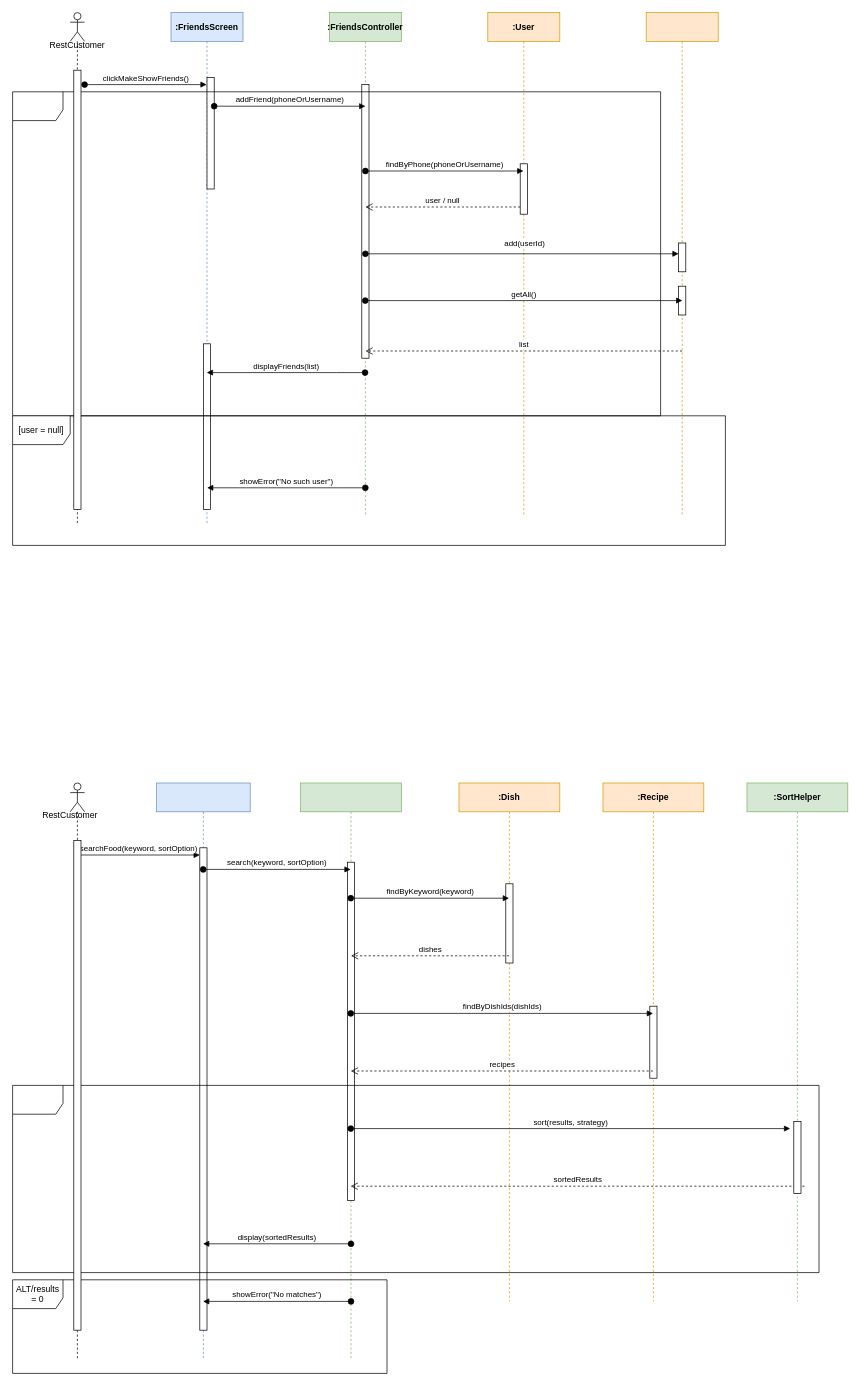
The diagram is 860 pixels wide and 1386 high, and some of its shapes have lost their labels. Each missing label, with the box of its shape:
:FoodSearchController: (300, 782, 401, 1359)
:FoodSearchScreen: (156, 782, 250, 1359)
:FriendsList: (645, 12, 718, 517)
[user ≠ null]: (12, 91, 661, 416)
ALT/results ≠ 0: (12, 1085, 819, 1273)
